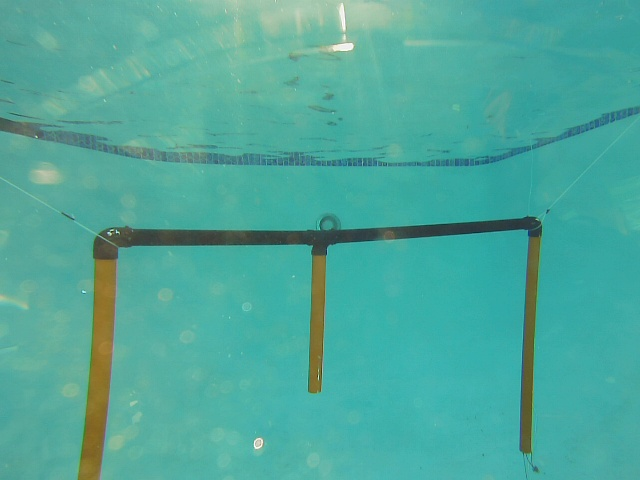Gate: (73, 252, 121, 480), (515, 229, 543, 455), (307, 252, 329, 396)
